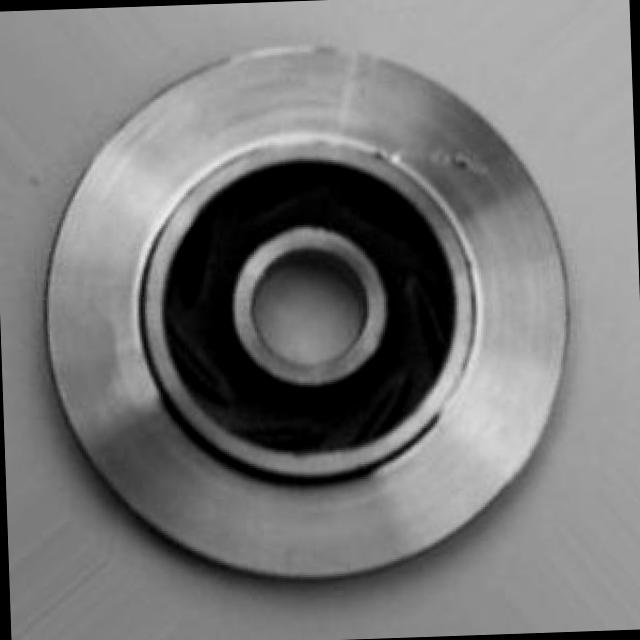Defect: (438, 146, 491, 178)
